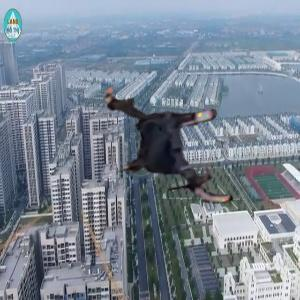drone: (86, 64, 249, 227)
